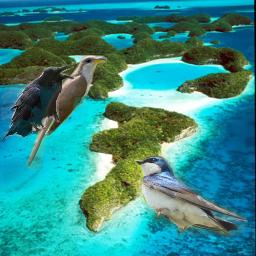Crow: (1, 66, 74, 141)
Cuckoo: (24, 55, 107, 170)
Swallow: (135, 156, 248, 240)
